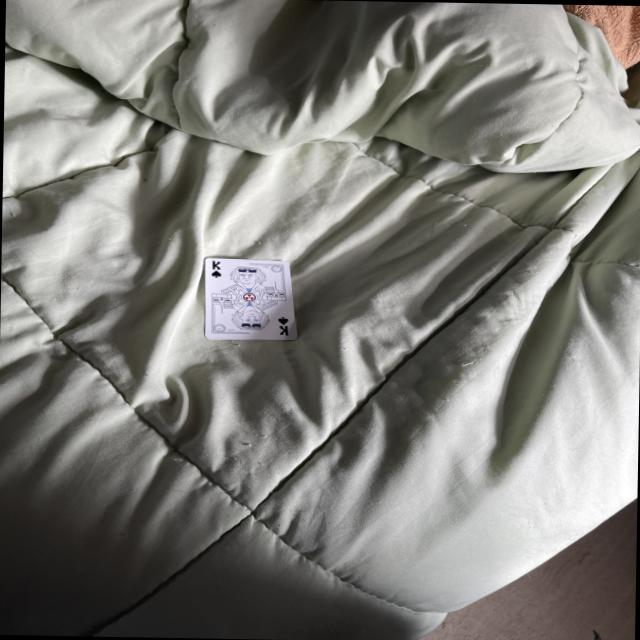King of spades: (206, 259, 295, 337)
